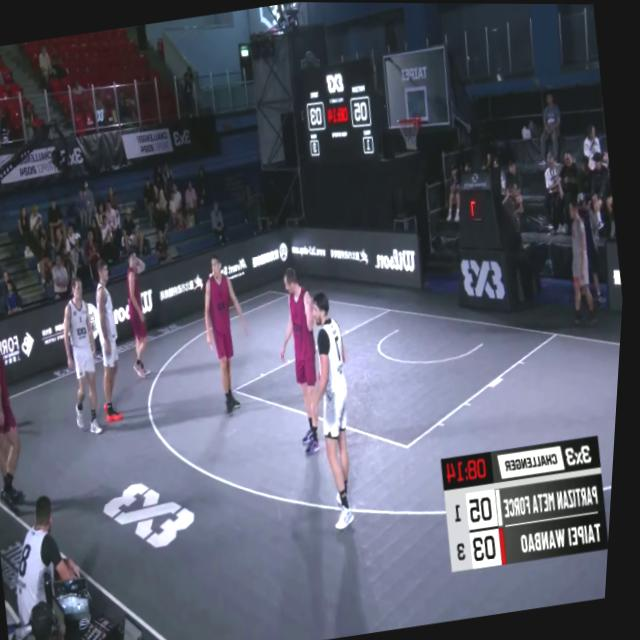hoop: (397, 111, 426, 154)
player: (299, 283, 381, 533), (271, 267, 342, 452), (195, 253, 268, 422), (55, 274, 120, 442), (87, 257, 143, 428), (0, 305, 42, 506), (119, 249, 168, 384)
